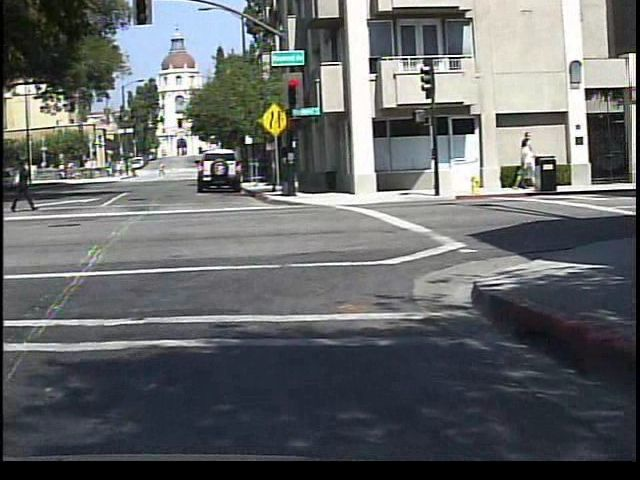person: (7, 156, 37, 214), (3, 169, 30, 229), (156, 160, 166, 179)
